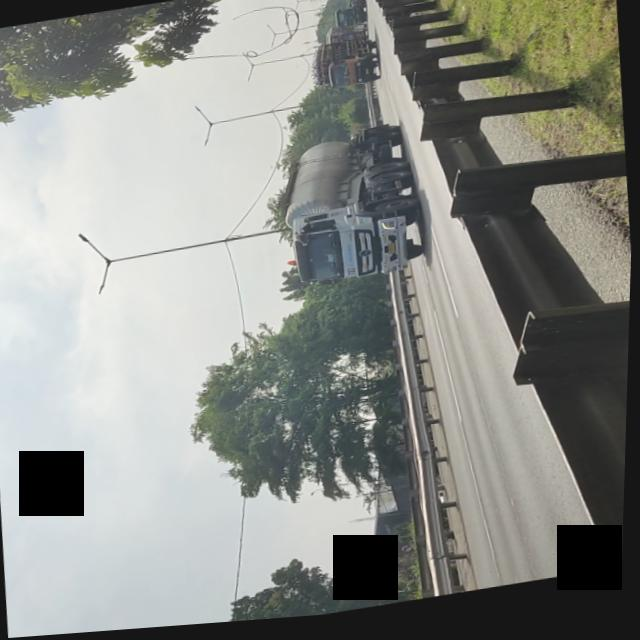Golongan V: (272, 123, 430, 296)
